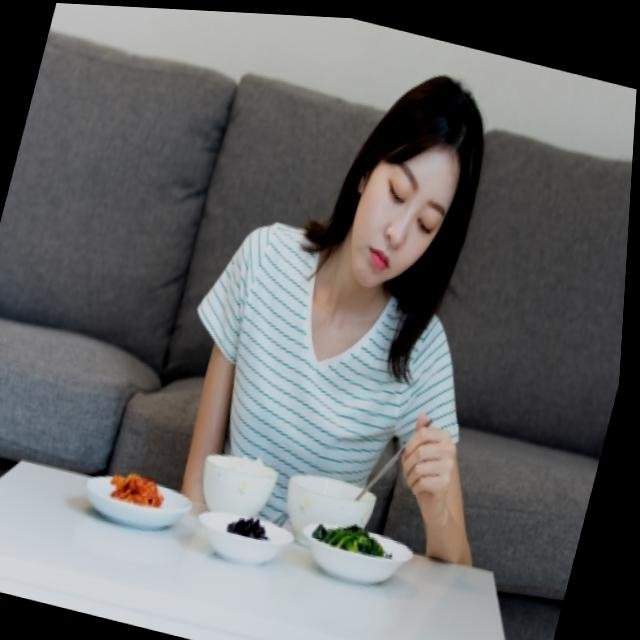eating-person: (77, 4, 595, 640)
